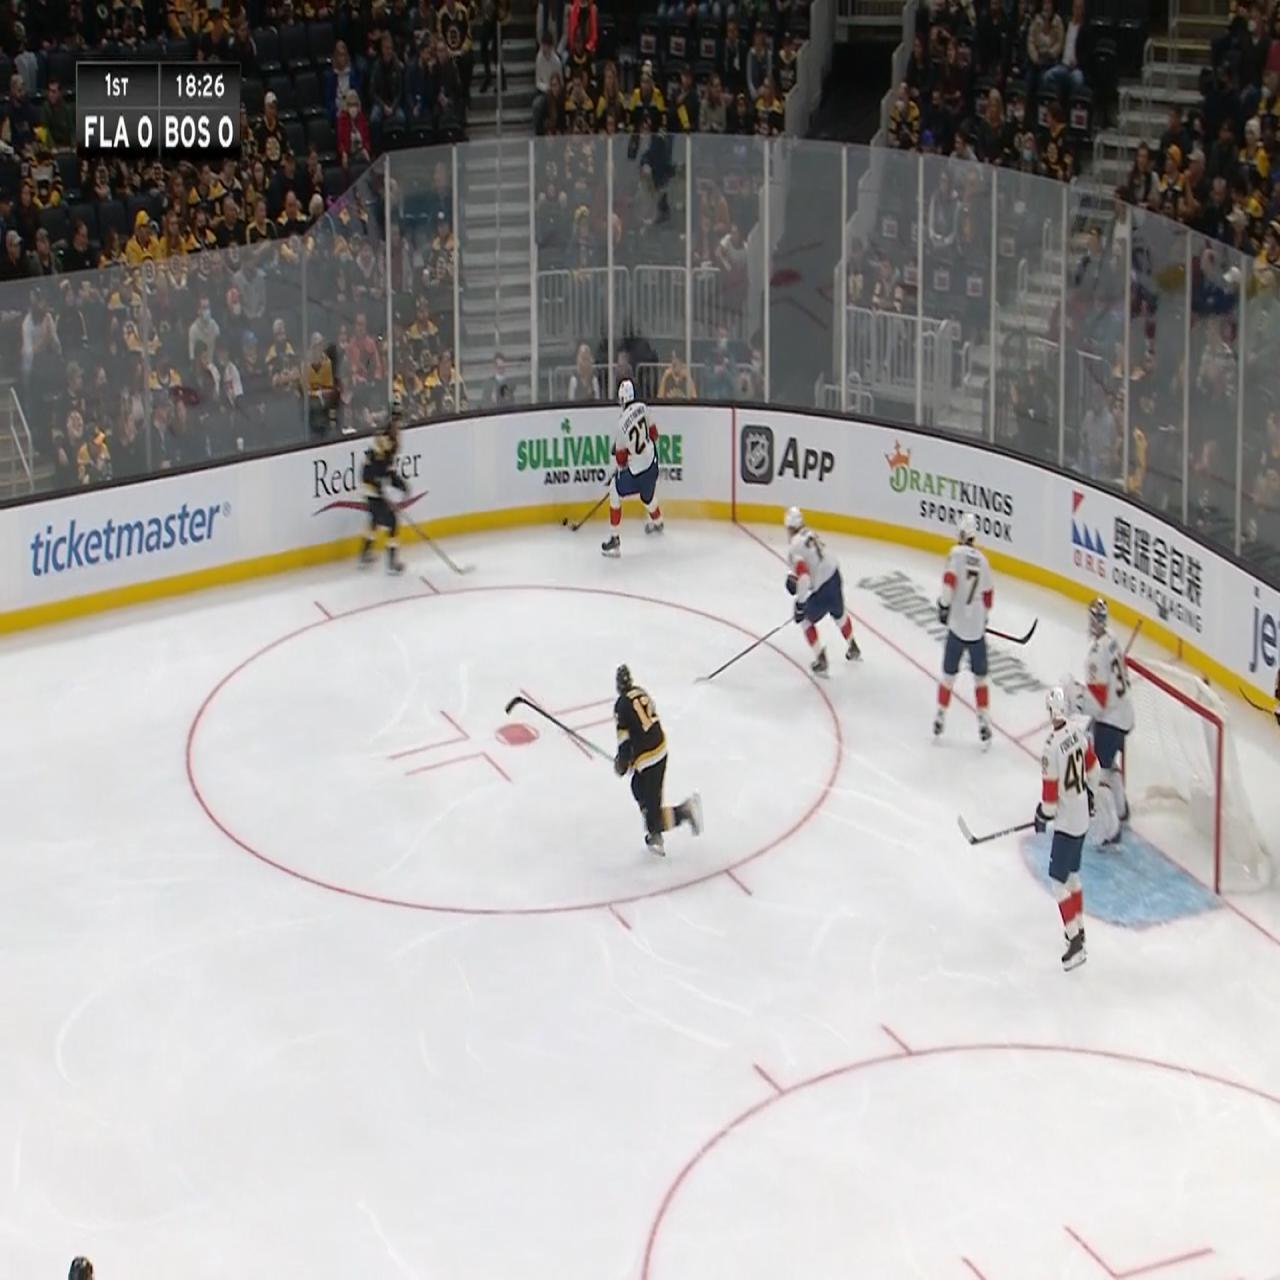Ad: (854, 559, 1049, 697), (1070, 476, 1209, 639), (504, 412, 686, 512), (21, 501, 244, 581), (885, 438, 1019, 550), (738, 414, 837, 510), (307, 450, 428, 520), (1246, 571, 1279, 749)
